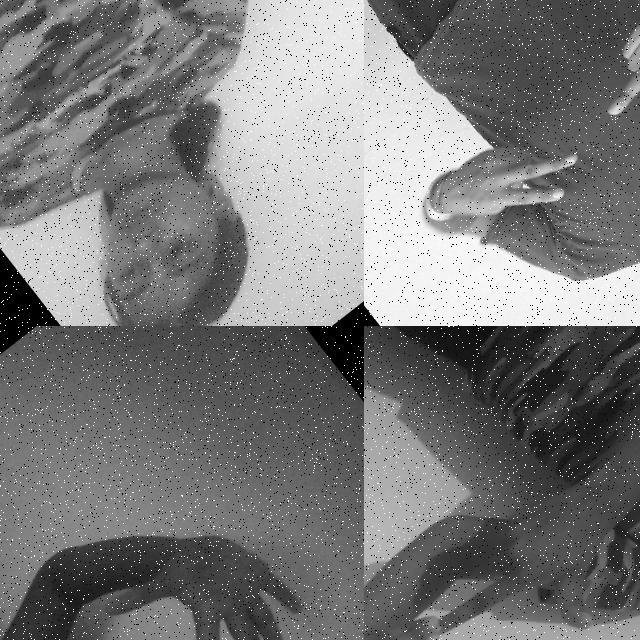Five Fathers: (364, 451, 640, 640)
Moutza: (90, 491, 333, 640)
Reversed Victory: (404, 90, 602, 280), (563, 0, 640, 155)
